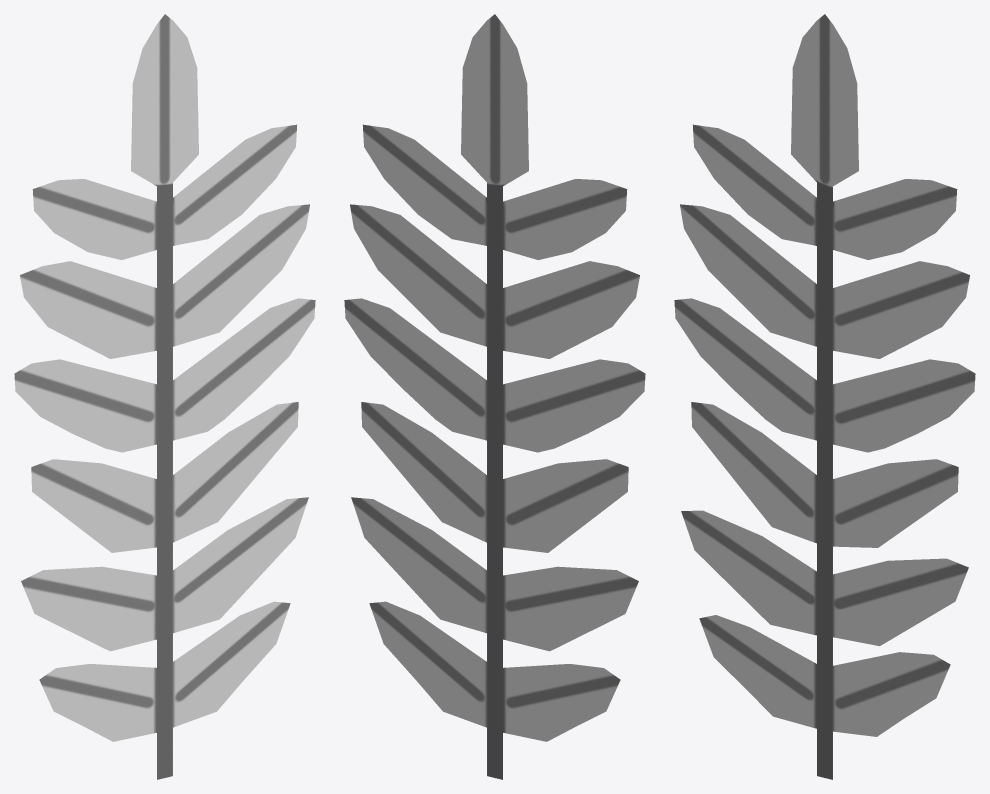
File: Leaf5.gltf
3 views of the same model, side by side, from view 1: azimuth 30°, elevation 25°; view 2: azimuth 150°, elevation 25°; view 3: azimuth 330°, elevation 25° (orthographic).
Visible parts, largest first — view 1: Leaf5; view 2: Leaf5; view 3: Leaf5.
Part boxes in pixels (box(x1,y1,x2,y2)): Leaf5: box(14, 14, 315, 779); Leaf5: box(344, 14, 645, 779); Leaf5: box(674, 14, 975, 779).
Bounding box in the file's own units: 0.1362 × 0.3302 × 8.14e-09.
1 material, 1 textured.
